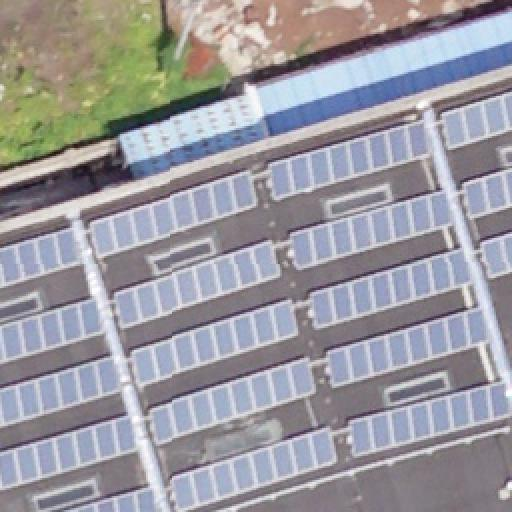solar-panel: (149, 354, 323, 446), (115, 238, 285, 330), (170, 424, 342, 512), (132, 298, 300, 386), (90, 170, 258, 258), (323, 306, 493, 390), (269, 119, 435, 201), (309, 248, 475, 328), (289, 193, 455, 271), (348, 377, 512, 455), (0, 415, 140, 489), (0, 354, 124, 426), (0, 293, 104, 363), (0, 228, 84, 288), (444, 91, 512, 149), (54, 484, 158, 512), (460, 166, 512, 222), (480, 234, 512, 278)
